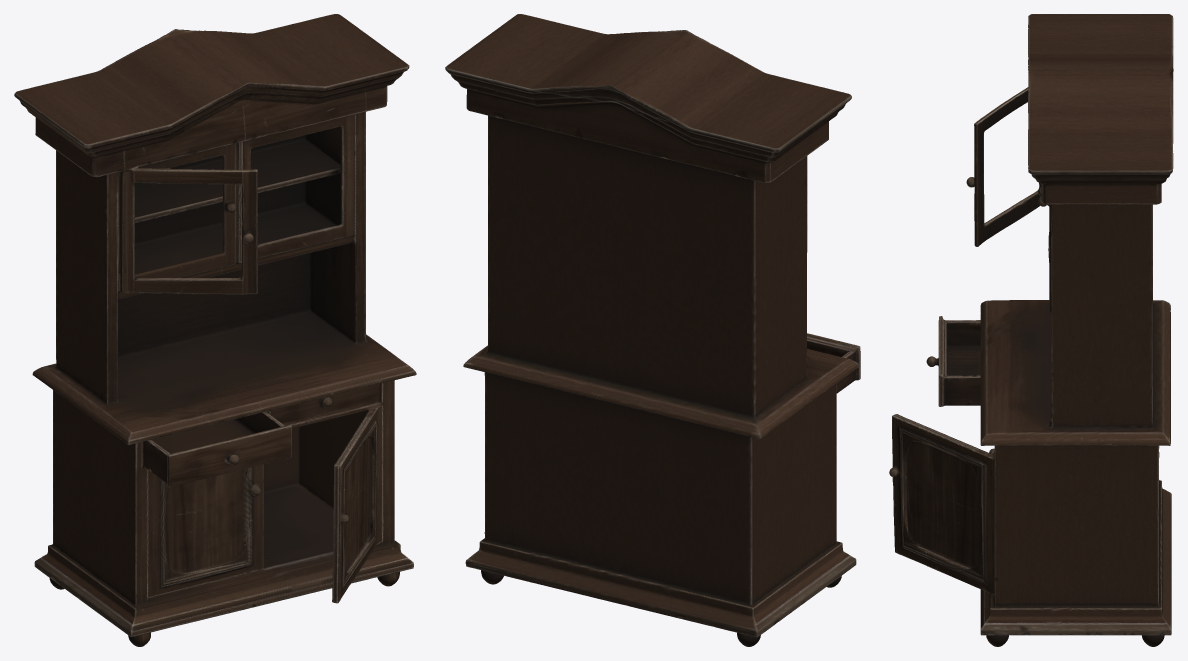
Rendered from Meshy_AI_Weathered_Wooden_Hutc_0917124533_texture.obj.
3 renders of one model, left to right at view 1: azimuth 30°, elevation 25°; view 2: azimuth 150°, elevation 25°; view 3: azimuth 270°, elevation 25°, orthographic. The views are drawn at different scales.
Parts seen in each view (by area): view 1: Meshy_AI_Weathered_Wooden_Hutc_0917124533_texture; view 2: Meshy_AI_Weathered_Wooden_Hutc_0917124533_texture; view 3: Meshy_AI_Weathered_Wooden_Hutc_0917124533_texture.
Part boxes in pixels (bbox=[...]): Meshy_AI_Weathered_Wooden_Hutc_0917124533_texture: bbox=[14, 14, 416, 646]; Meshy_AI_Weathered_Wooden_Hutc_0917124533_texture: bbox=[445, 14, 860, 646]; Meshy_AI_Weathered_Wooden_Hutc_0917124533_texture: bbox=[889, 14, 1173, 646].
Size of the model in its own units: 1.24 by 1.9 by 0.9482.
1 material, 1 textured.
